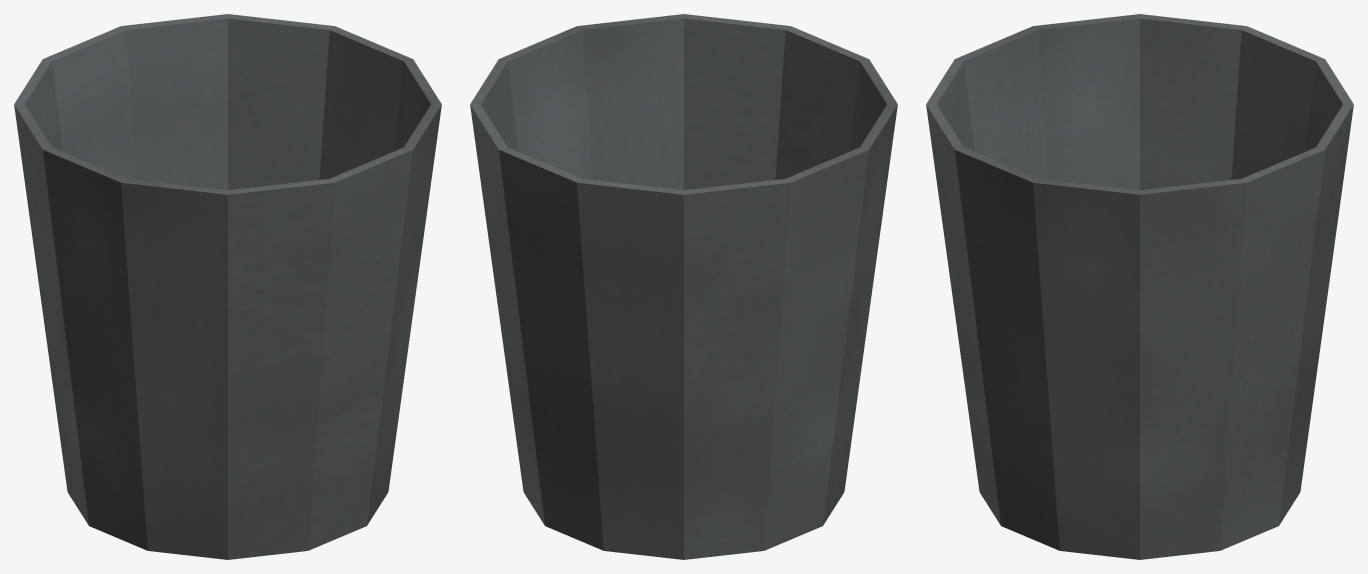
File: Bin_Office.fbx
The picture shows the model from 3 angles, left to right: view 1: azimuth 30°, elevation 25°; view 2: azimuth 150°, elevation 25°; view 3: azimuth 270°, elevation 25°; orthographic projection.
Visible parts, largest first — view 1: мусорка нормальная; view 2: мусорка нормальная; view 3: мусорка нормальная.
Boxes of the visible parts, x1,y1,x2,y2 form: мусорка нормальная: (14, 14, 441, 559); мусорка нормальная: (470, 14, 897, 559); мусорка нормальная: (926, 14, 1353, 559).
Bounding box in the file's own units: 0.32 × 0.32 × 0.32.
Materials: 1 (1 with a texture image).
